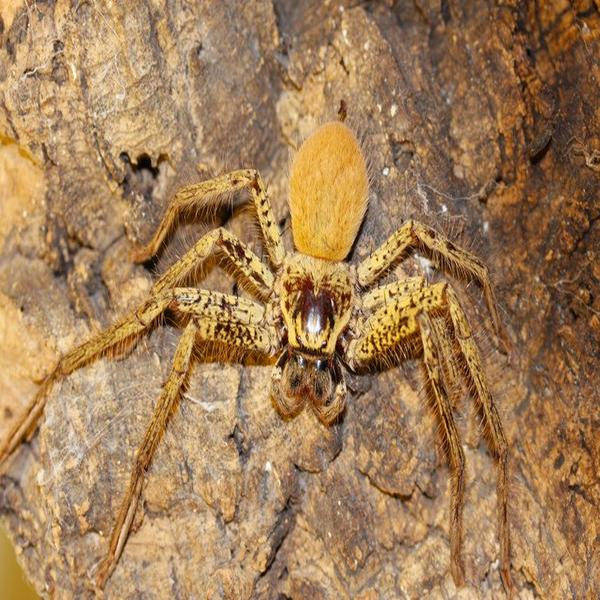Huntsman Spider: (26, 118, 521, 580)
